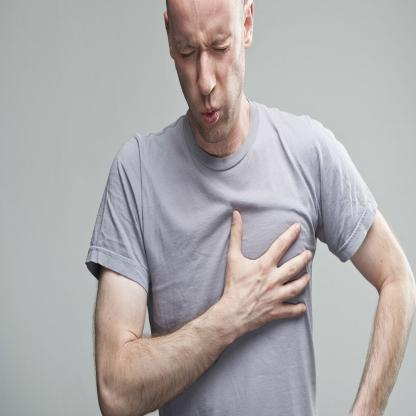pain: (169, 35, 239, 66)
